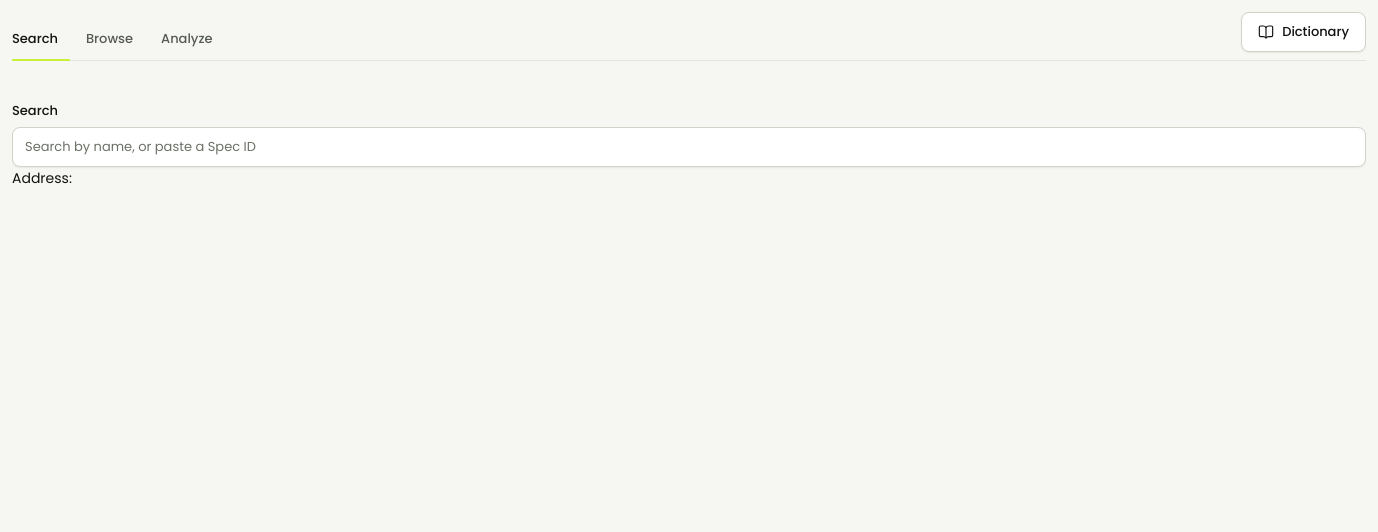
Test case: AtlasPage › opens on Search, and lists nothing until a name is asked for
Expected: the button "Dictionary" is shown, [1241,12,1366,52]
Expected: the link "New Spec ID" is not shown
Type "lid" into the search field labelled "Search" at (689, 147), box [12,127,1366,167]
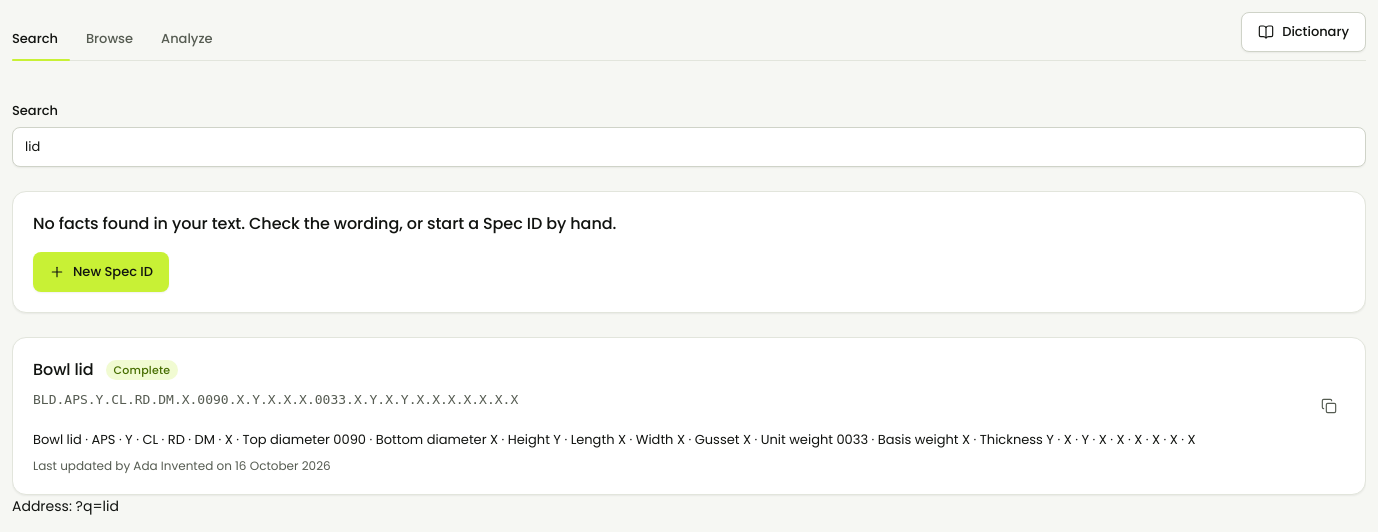
Expected: the link named "Bowl lid" is shown, [13,338,1365,494]
